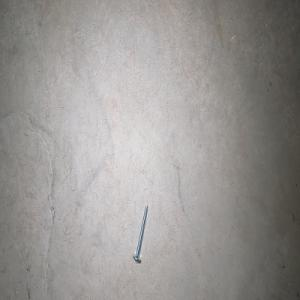Bolt: (132, 203, 148, 261)
